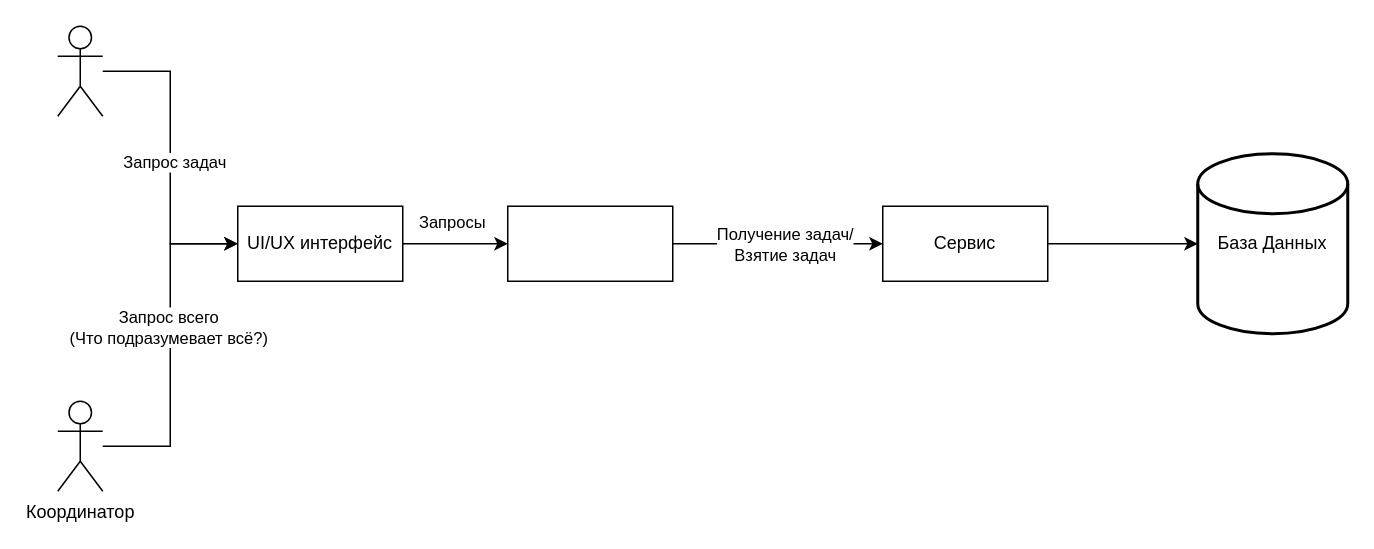
The diagram is 1374 pixels wide and 549 high, and some of its shapes have lost their labels. Each missing label, with the centre of its shape:
Балансировачный: the point at 589,243
Волонтёр: the point at 79,70
